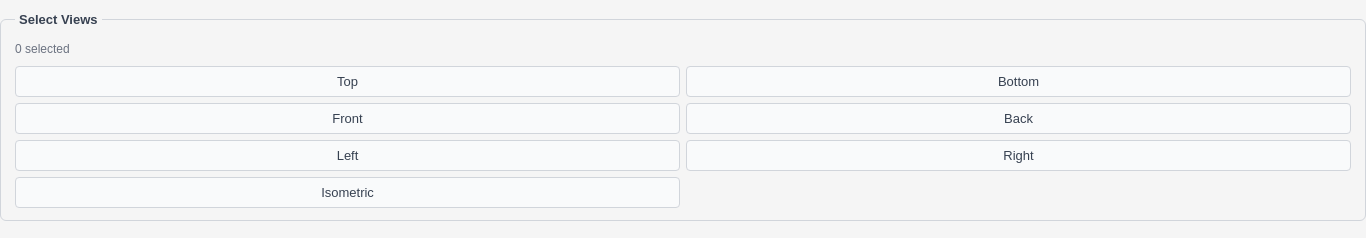
Test case: ViewSelector › increments the count badge when a view is activated
Click the checkbox labelled "Front" at (348, 118), box [15,103,680,134]
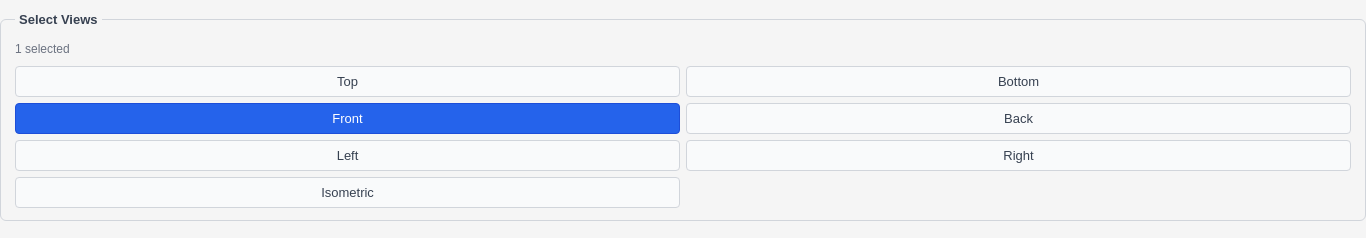
Now the text "1 selected" is shown, box [15,42,70,56]
Click the checkbox labelled "Back" at (1018, 118), box [686,103,1351,134]
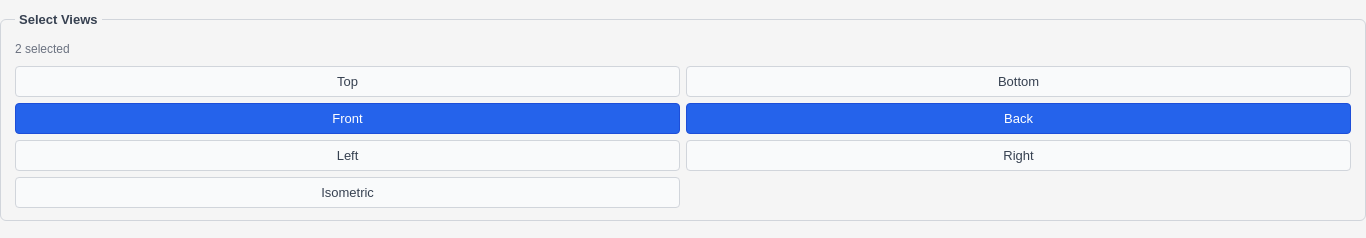
Now the text "2 selected" is shown, box [15,42,70,56]
